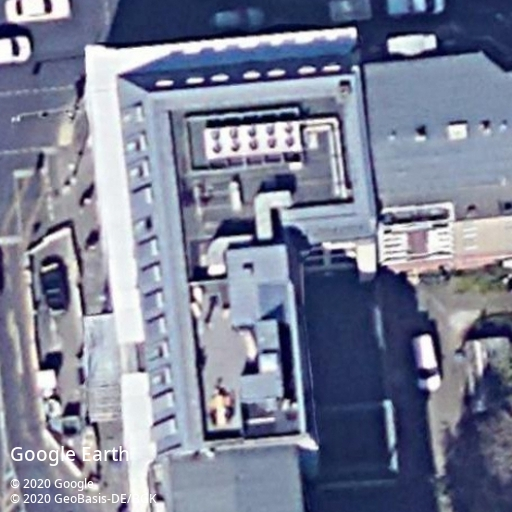Chiller: (203, 119, 303, 163)
